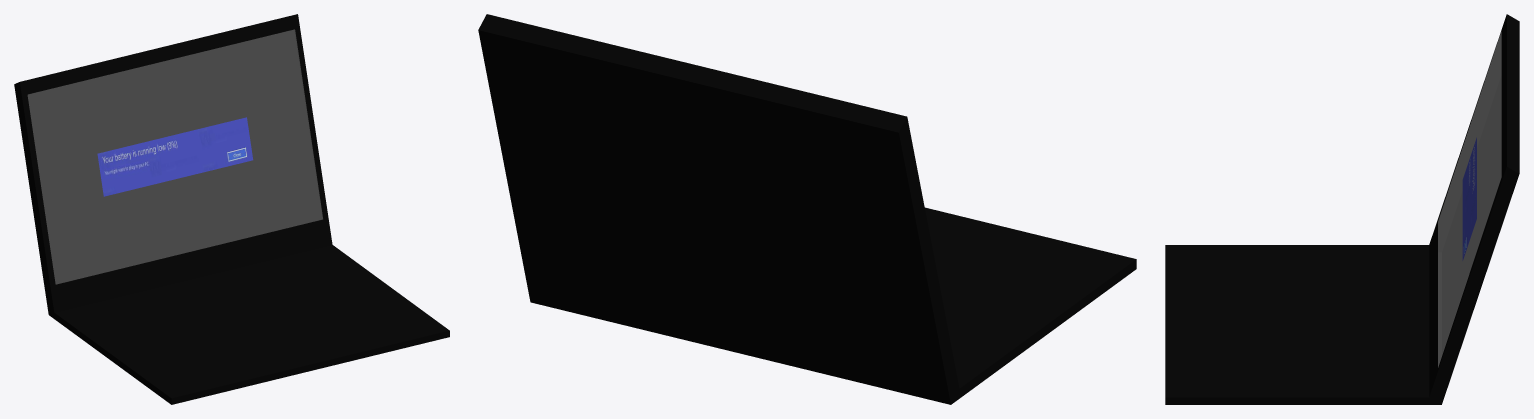
The model's file is Window.glb.
The picture shows the model from 3 angles, left to right: view 1: azimuth 30°, elevation 25°; view 2: azimuth 150°, elevation 25°; view 3: azimuth 270°, elevation 25°; orthographic projection. The views are drawn at different scales.
Parts seen in each view (by area): view 1: Plane.006; view 2: Plane.006; view 3: Plane.006.
Boxes of the visible parts, x1=… form: Plane.006: x1=14, y1=14, x2=449, y2=404; Plane.006: x1=478, y1=14, x2=1136, y2=404; Plane.006: x1=1165, y1=14, x2=1519, y2=404.
Size of the model in its own units: 1 by 0.728 by 0.98.
Materials: 3 (1 with a texture image).
